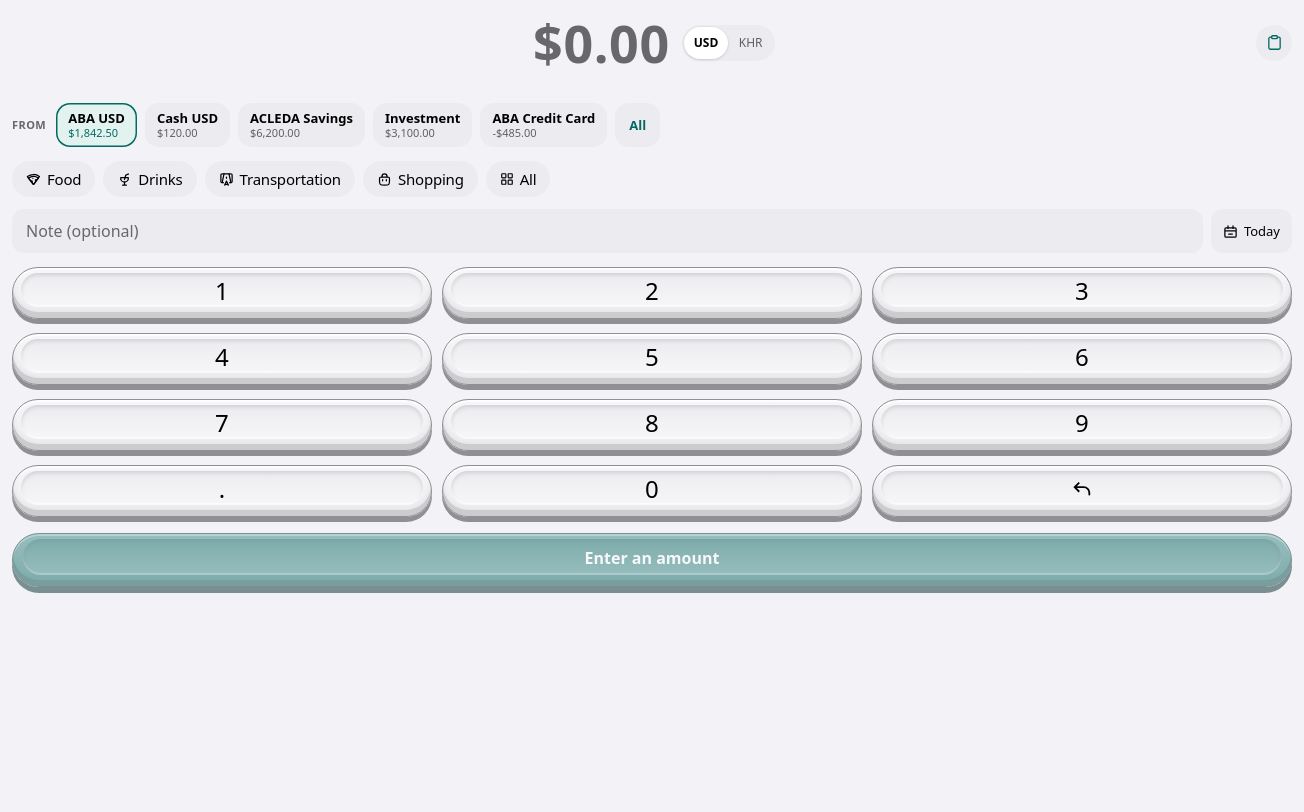
Test: transaction save feedback › saves a chosen date and visible note without opening a picker, then returns to today
Later steps or results of the test are not shown.
Type "Dinner with family" into the field labelled "Note" at {"x": 607, "y": 231}, box [12,209,1203,253]
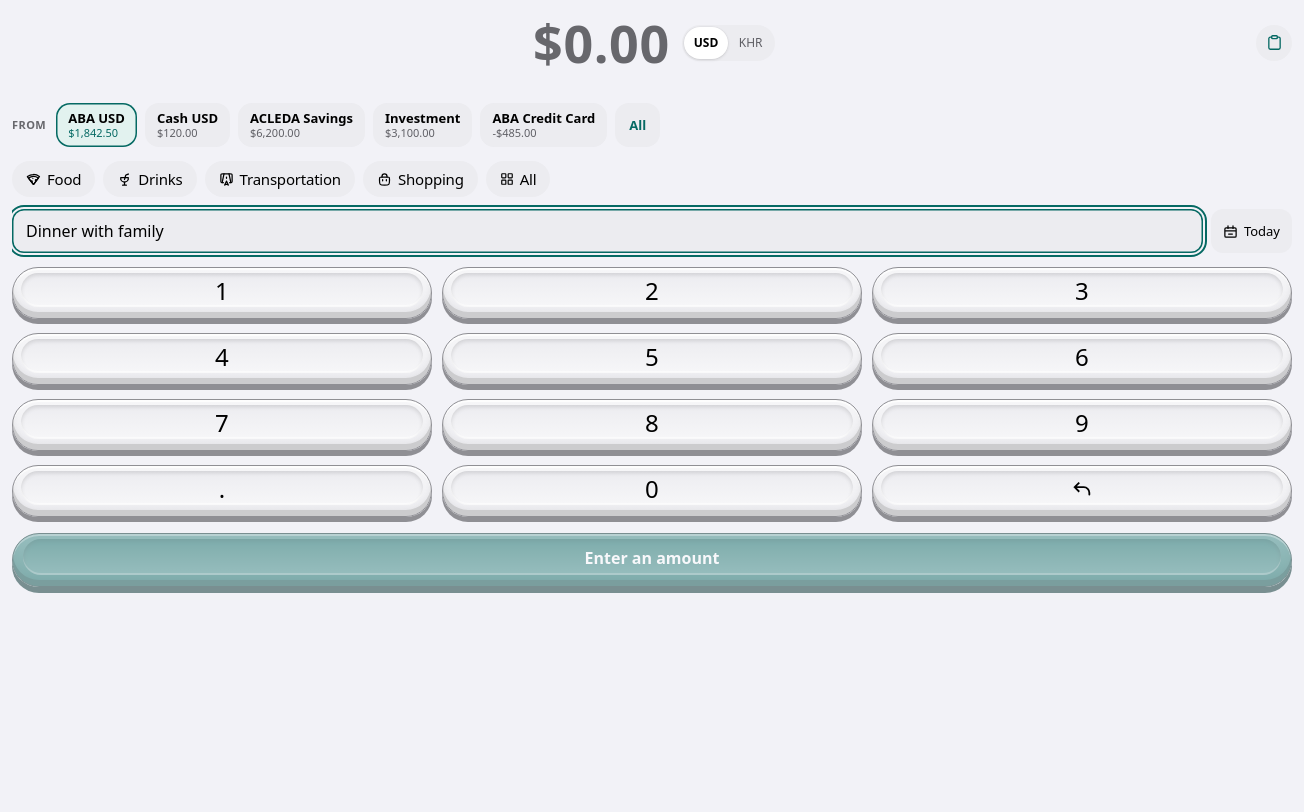
Click the button with aria-label "Date: Today" at {"x": 1251, "y": 231}, box [1211,209,1292,253]
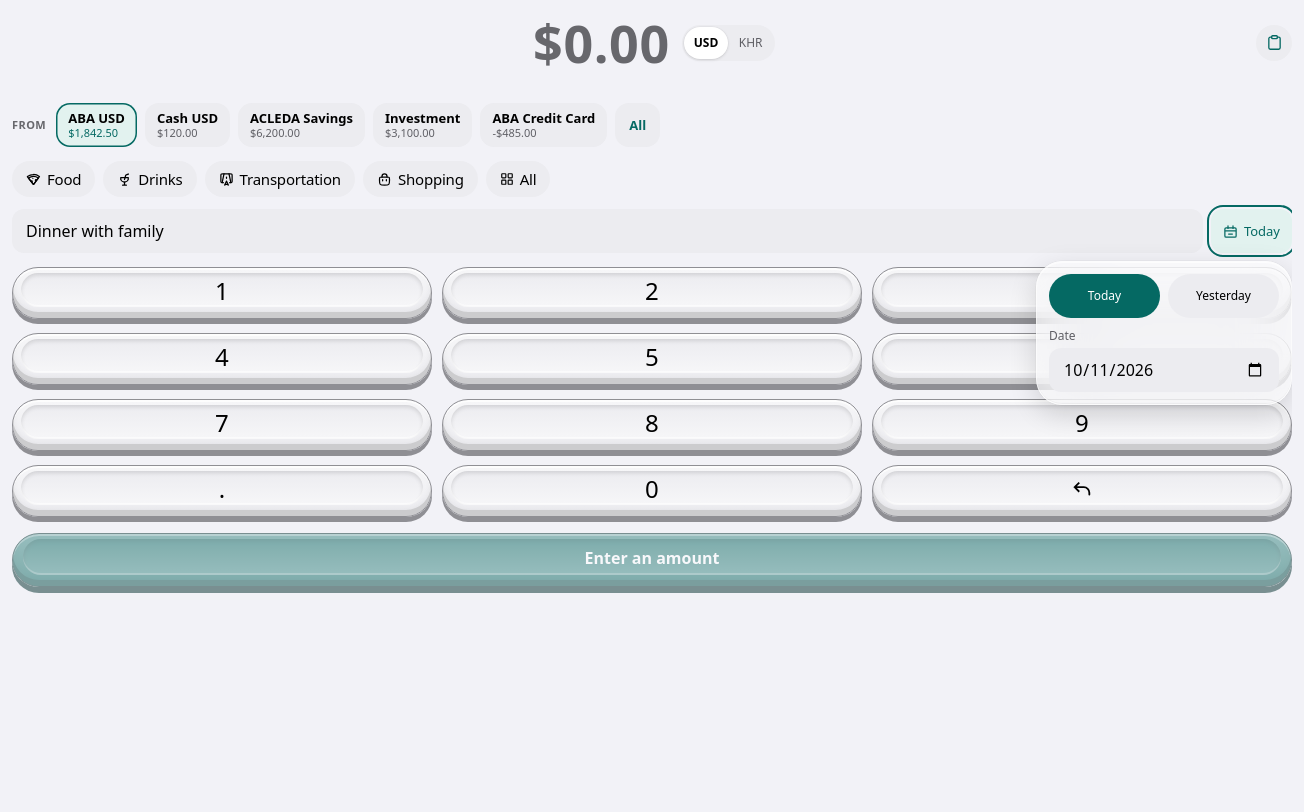
Click the button "Yesterday" at {"x": 1224, "y": 296}, box [1168,274,1279,318]
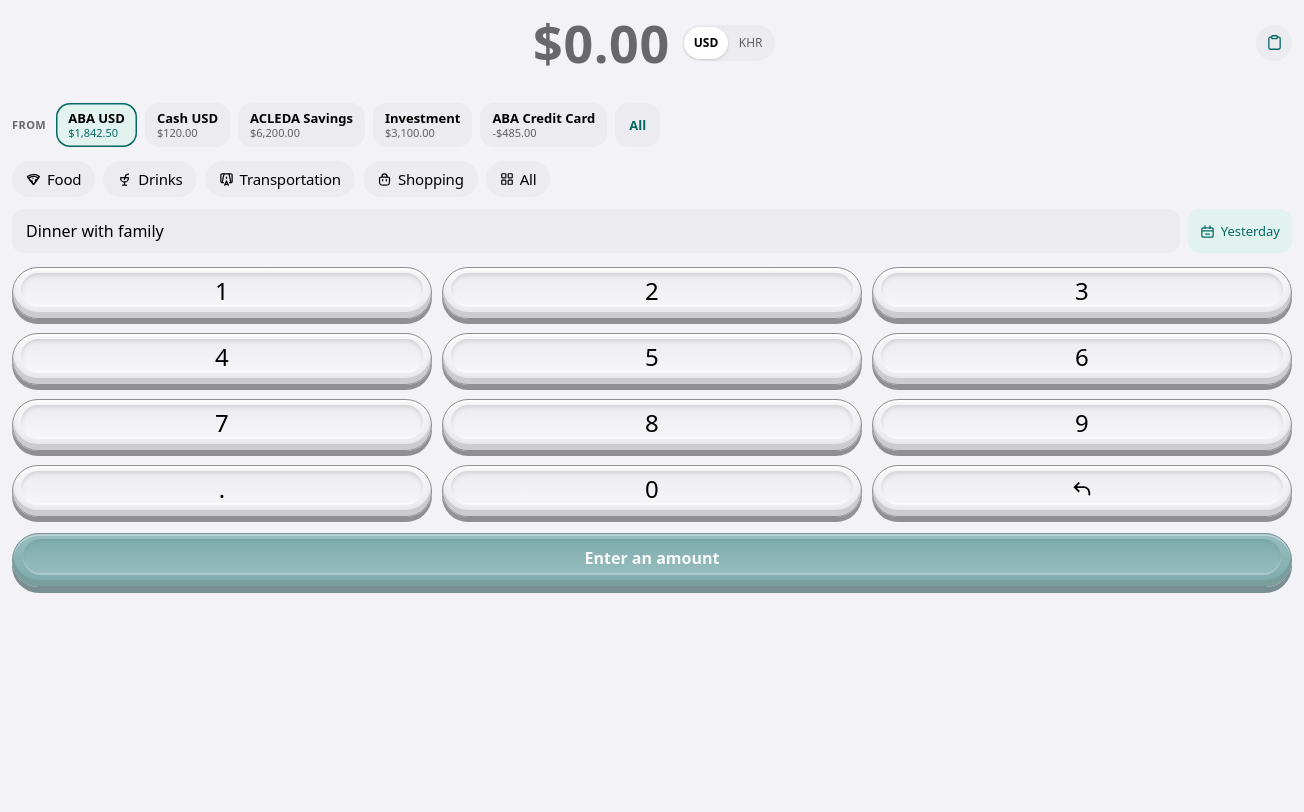
Now the button with aria-label "Date: Yesterday" is shown, box [1188,209,1292,253]
Click the button "5" at {"x": 652, "y": 359}, box [442,333,862,385]
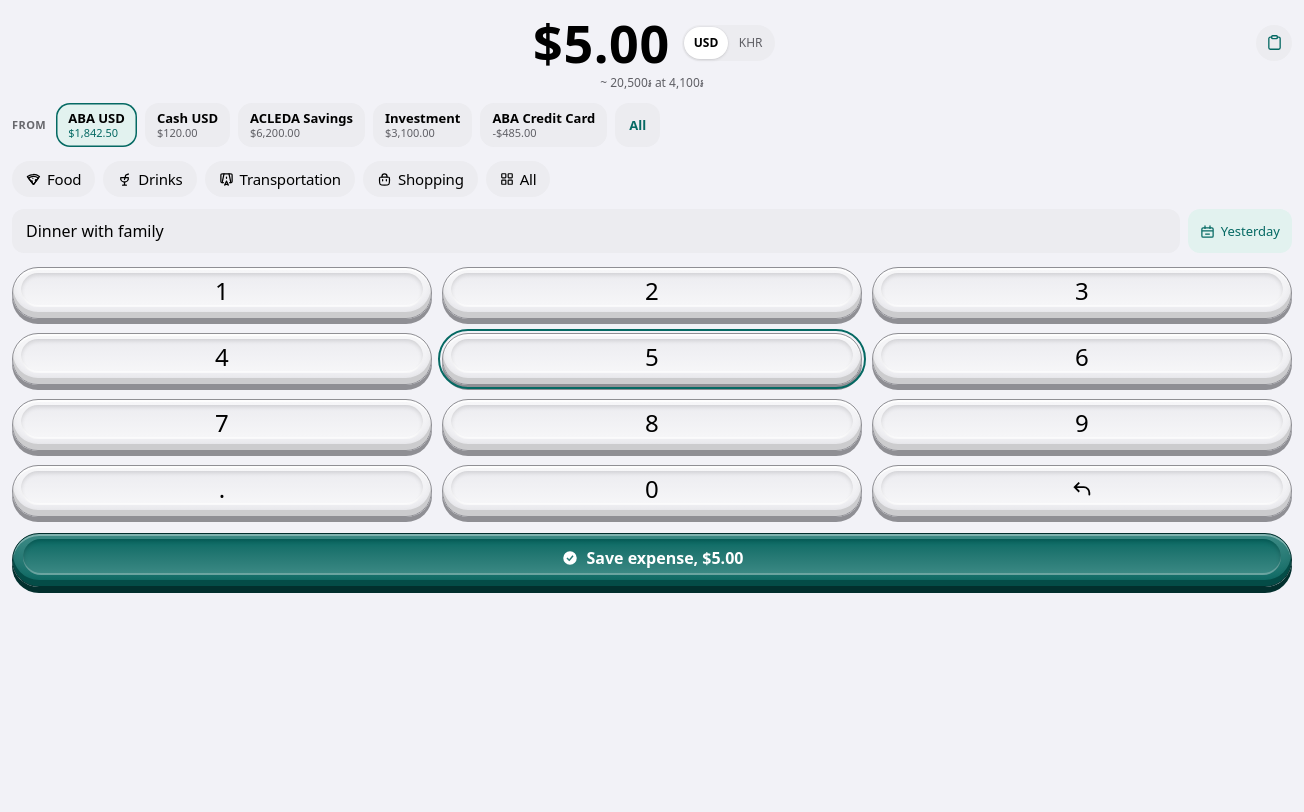
Click the button "Save expense, $5.00" at {"x": 652, "y": 560}, box [12,533,1292,587]
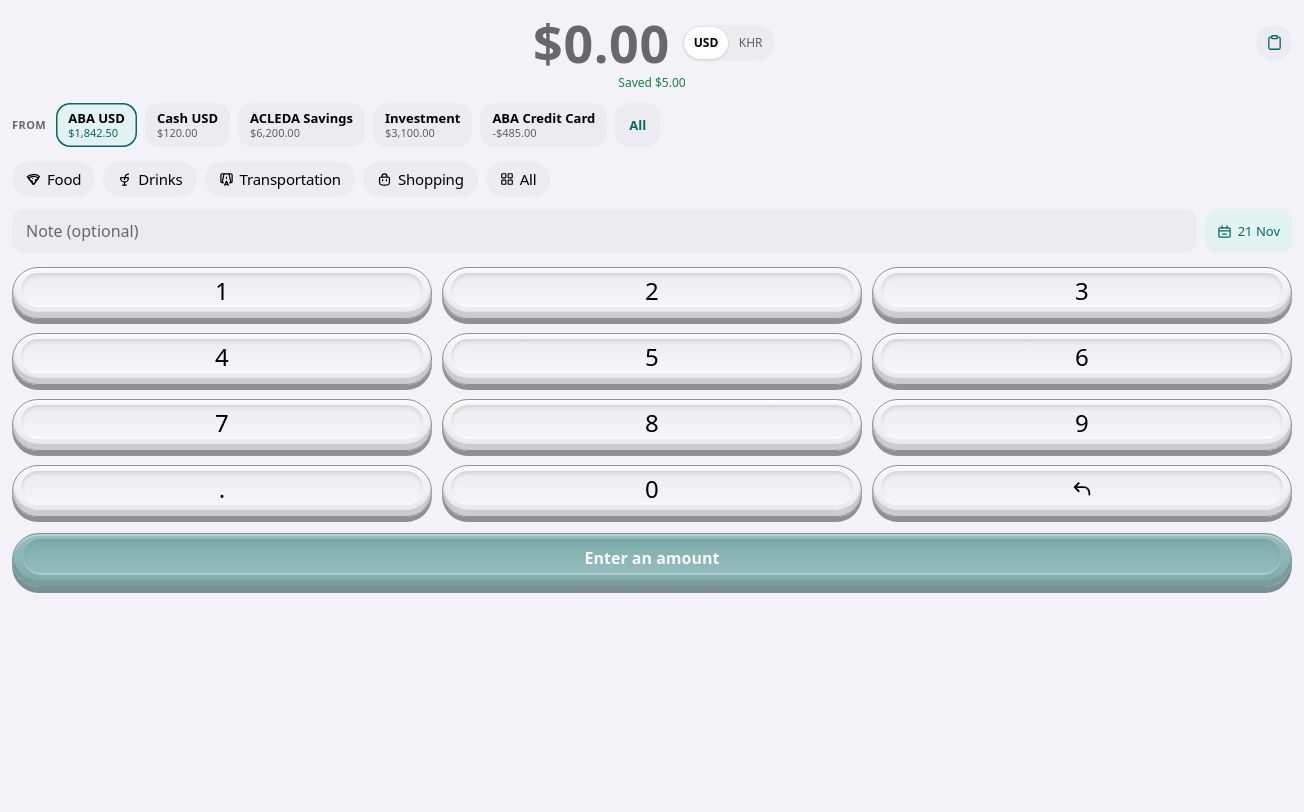
Now the field labelled "Note" is empty, box [12,209,1197,253]
